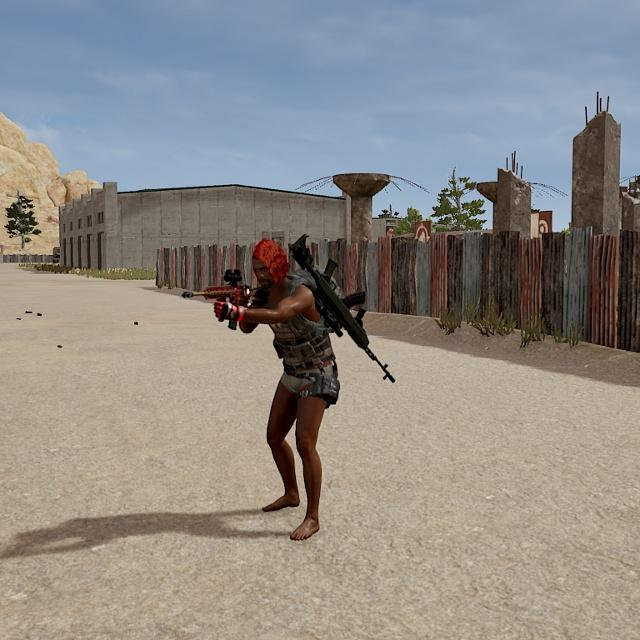head: (244, 235, 297, 291)
people: (227, 229, 345, 542)
